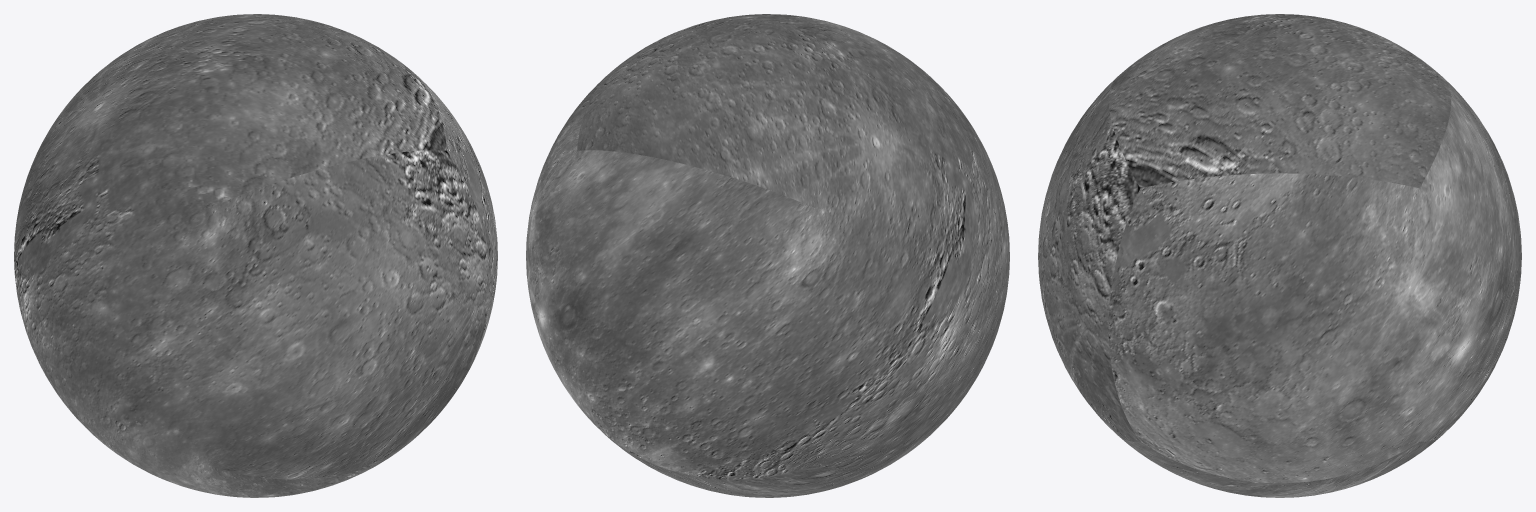
Rendered from Sun.gltf.
3 renders of one model, left to right at view 1: azimuth 30°, elevation 25°; view 2: azimuth 150°, elevation 25°; view 3: azimuth 270°, elevation 25°, orthographic.
Visible parts, largest first — view 1: Sun; view 2: Sun; view 3: Sun.
Boxes of the visible parts, x1,y1,x2,y2 form: Sun: (14,14,497,497); Sun: (526,14,1009,497); Sun: (1038,14,1521,497).
Size of the model in its own units: 10.4 by 10.4 by 10.4.
